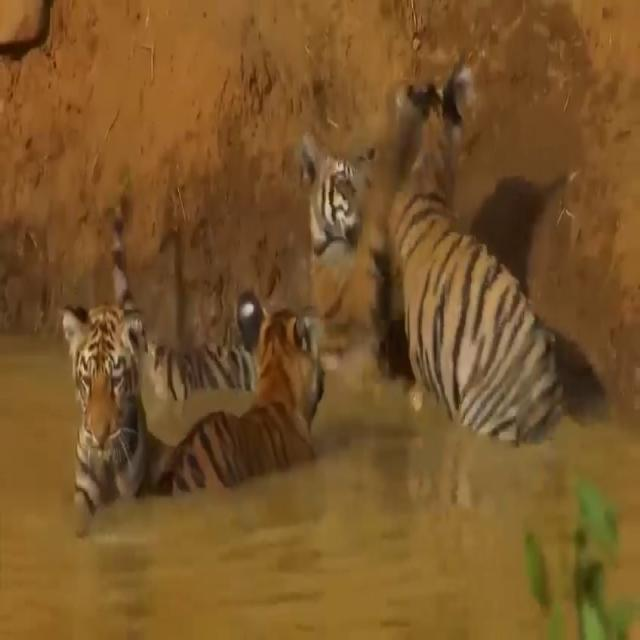tiger: (384, 53, 562, 447), (168, 288, 324, 488), (64, 302, 162, 516)
